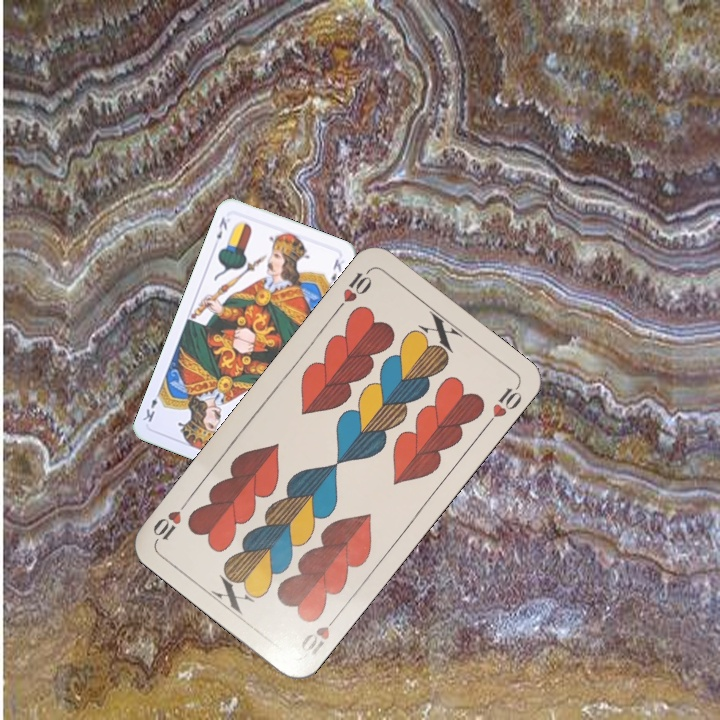EK: (212, 213, 230, 242)
H10: (331, 265, 375, 315), (296, 610, 341, 658)
